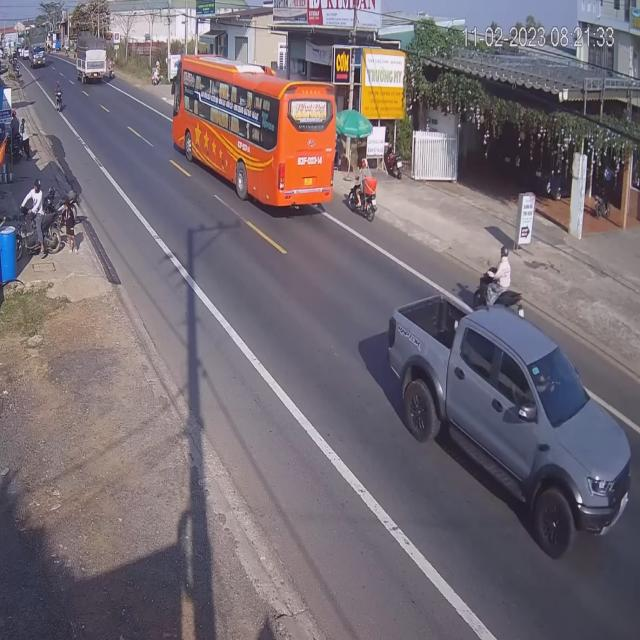bus: (166, 52, 336, 213)
car: (385, 285, 634, 550)
motorbike: (347, 159, 379, 224), (52, 76, 64, 111)
truck: (75, 41, 109, 88)
